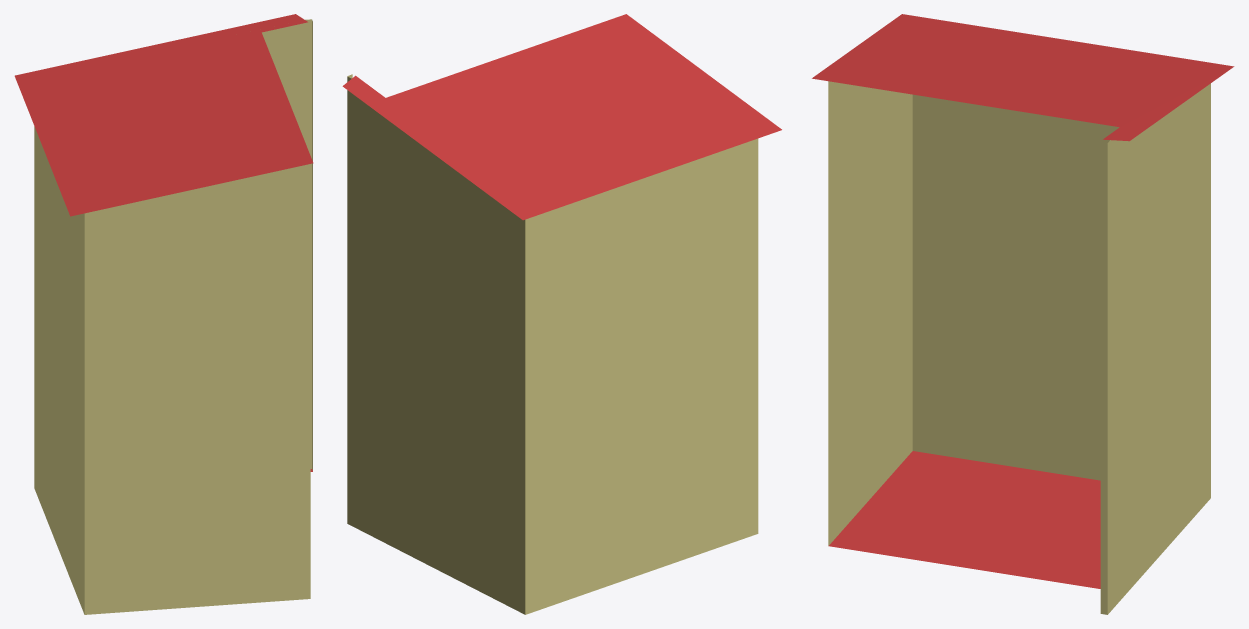
The picture shows the model from 3 angles, left to right: view 1: azimuth 30°, elevation 25°; view 2: azimuth 150°, elevation 25°; view 3: azimuth 270°, elevation 25°; orthographic projection. The views are drawn at different scales.
Size of the model in its own units: 5.67 by 5.83 by 7.18.
